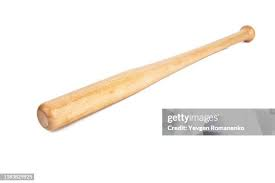baseball bat: (35, 23, 256, 133)
